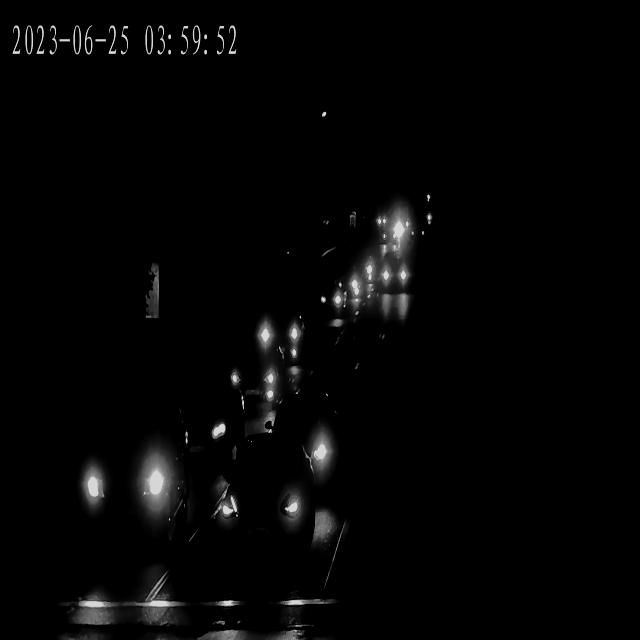Car: (64, 408, 190, 548), (212, 454, 316, 572), (272, 393, 344, 481), (174, 387, 244, 458), (252, 305, 310, 359), (220, 347, 280, 398), (327, 266, 366, 300), (319, 282, 353, 315), (375, 261, 409, 294), (379, 231, 402, 250), (373, 214, 389, 228)
